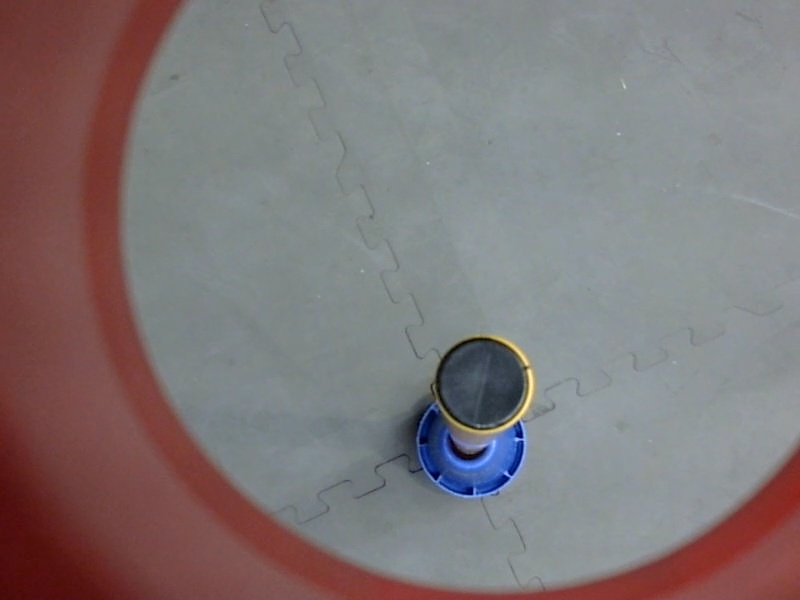tip: (429, 333, 538, 440)
